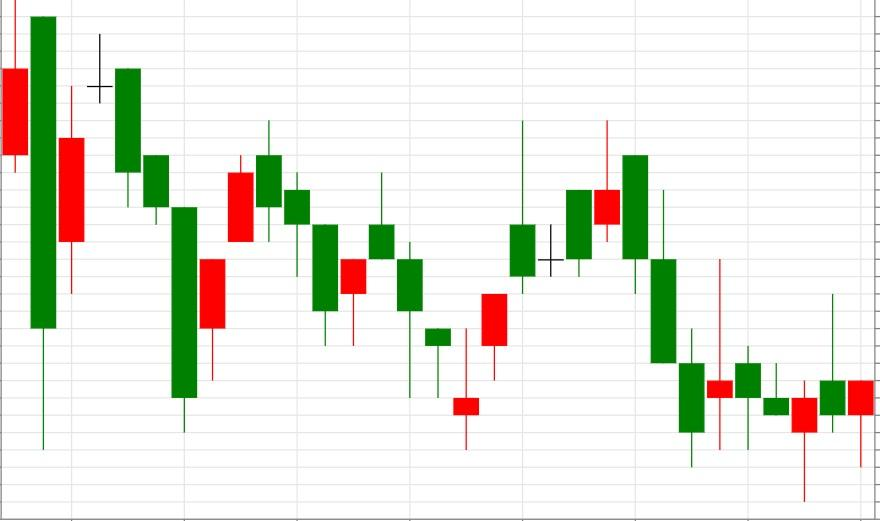three_black_crows_fall: (453, 121, 705, 468), (311, 172, 452, 399)
